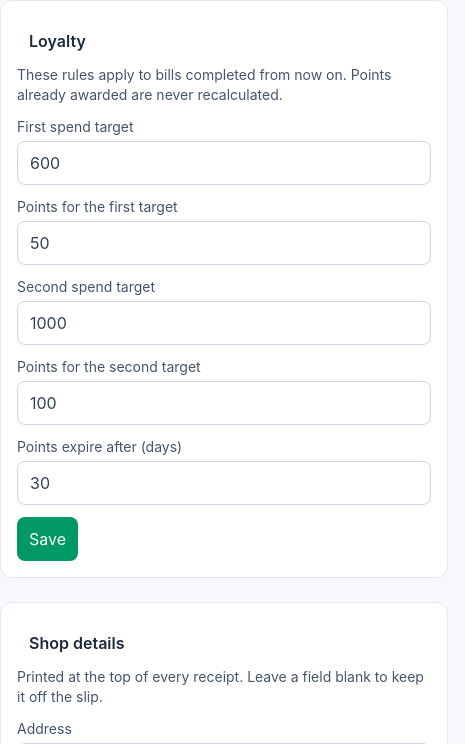
Scenario: the loyalty settings screen › shows the policy refusal when the write is blocked
Check: the field with test id "settings-points_threshold_1" is shown, box top-left (17, 141), bottom-right (431, 185)
Click the button with test id "settings-save": (48, 539) top-left (17, 517), bottom-right (78, 561)
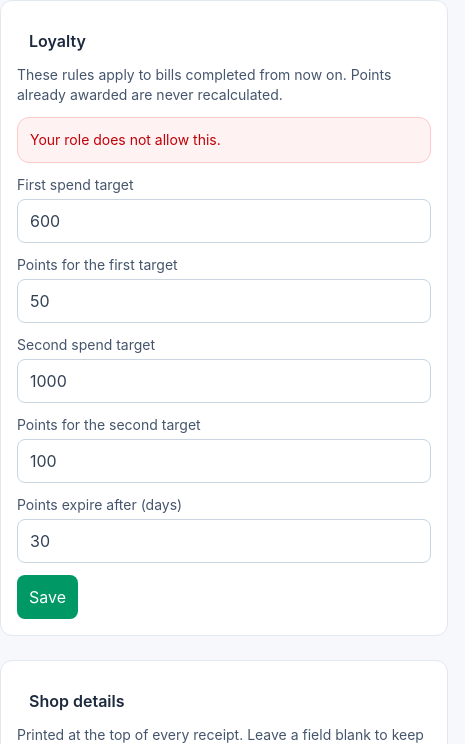
Check: the text "Your role does not allow this." is shown, box top-left (30, 131), bottom-right (221, 148)
